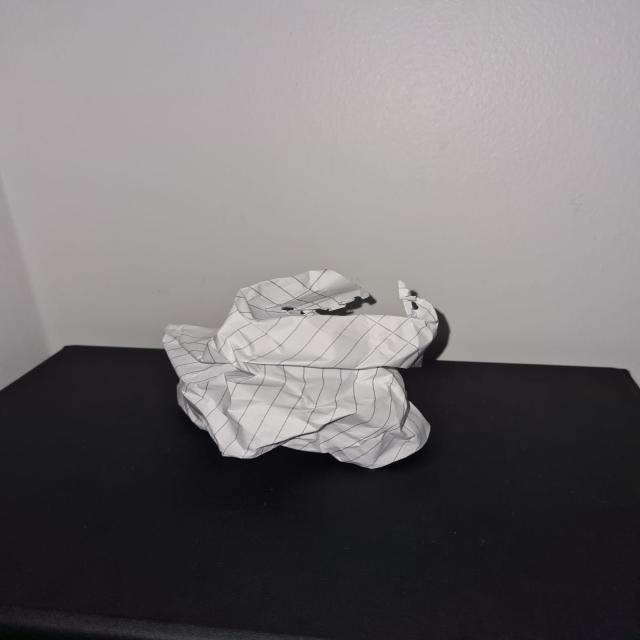Paper: (159, 269, 440, 471)
